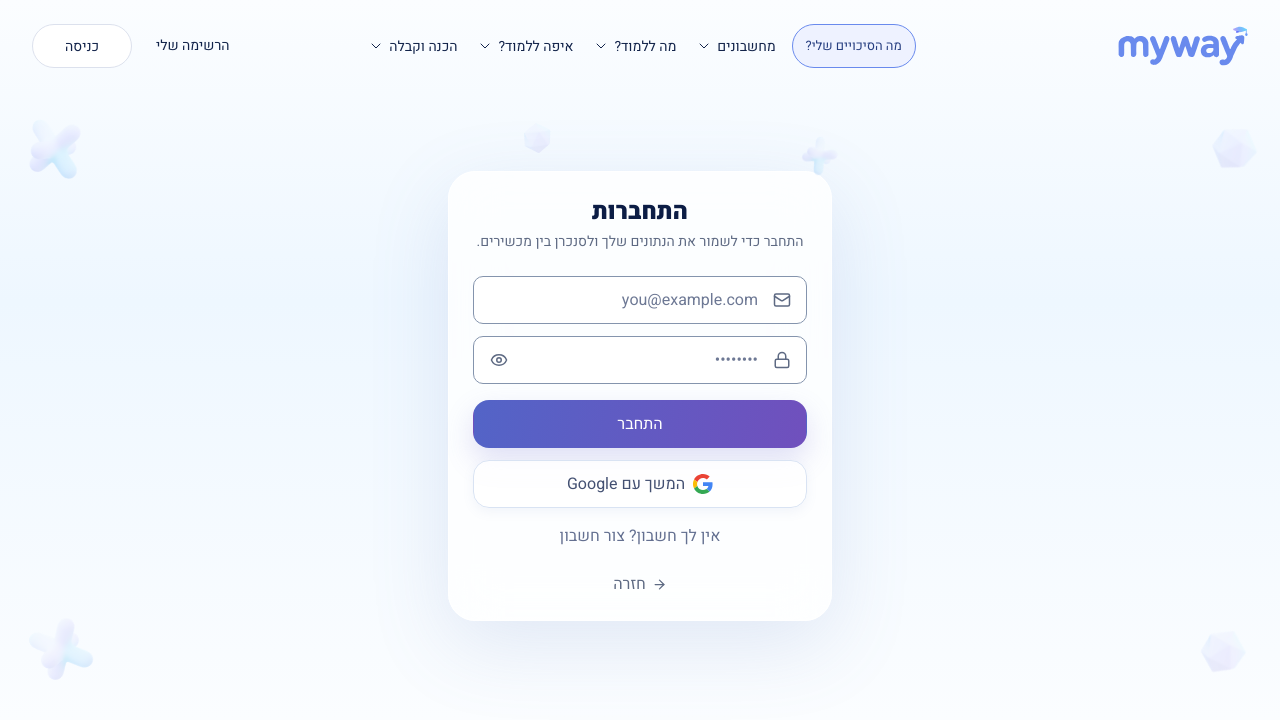
Test case: AuthScreen › passes names to signup and shows the confirmation handoff without logging in
Step 1. Click the button "אין לך חשבון? צור חשבון" → (640, 536), box [473,524,807,548]
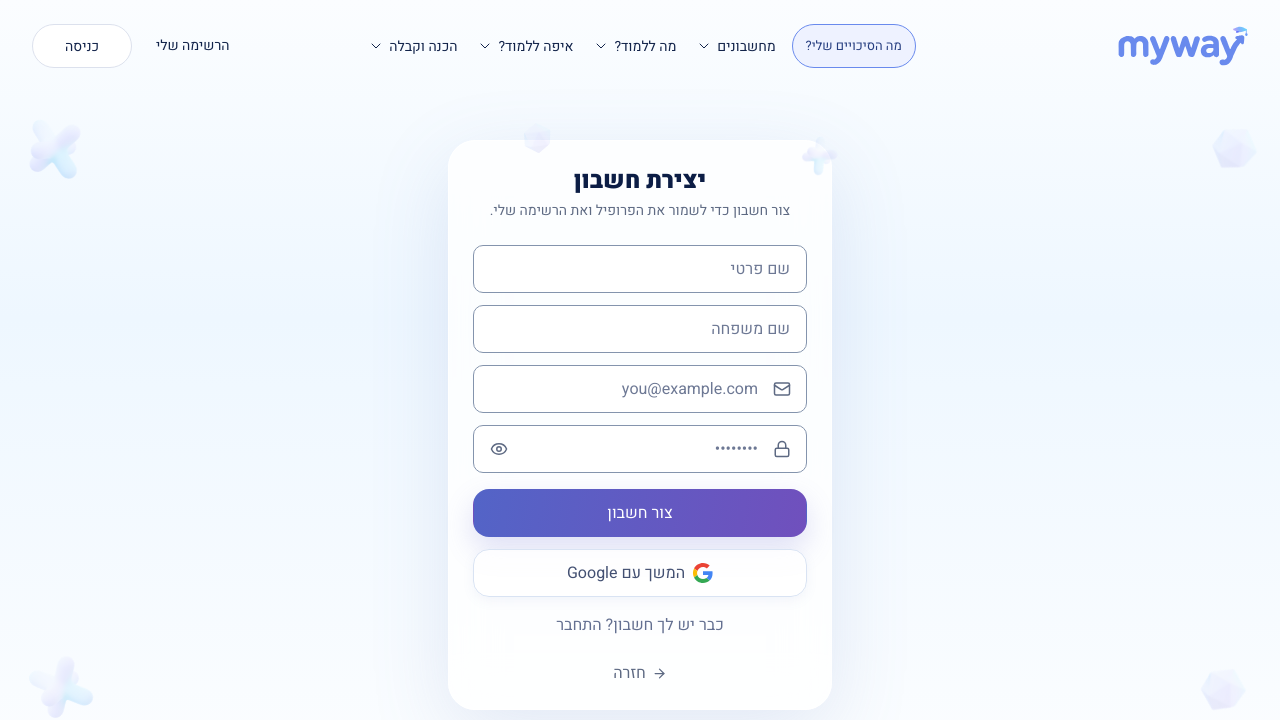
Step 2. Type "מלי" into the field with placeholder "שם פרטי" → (640, 269), box [473,245,807,293]
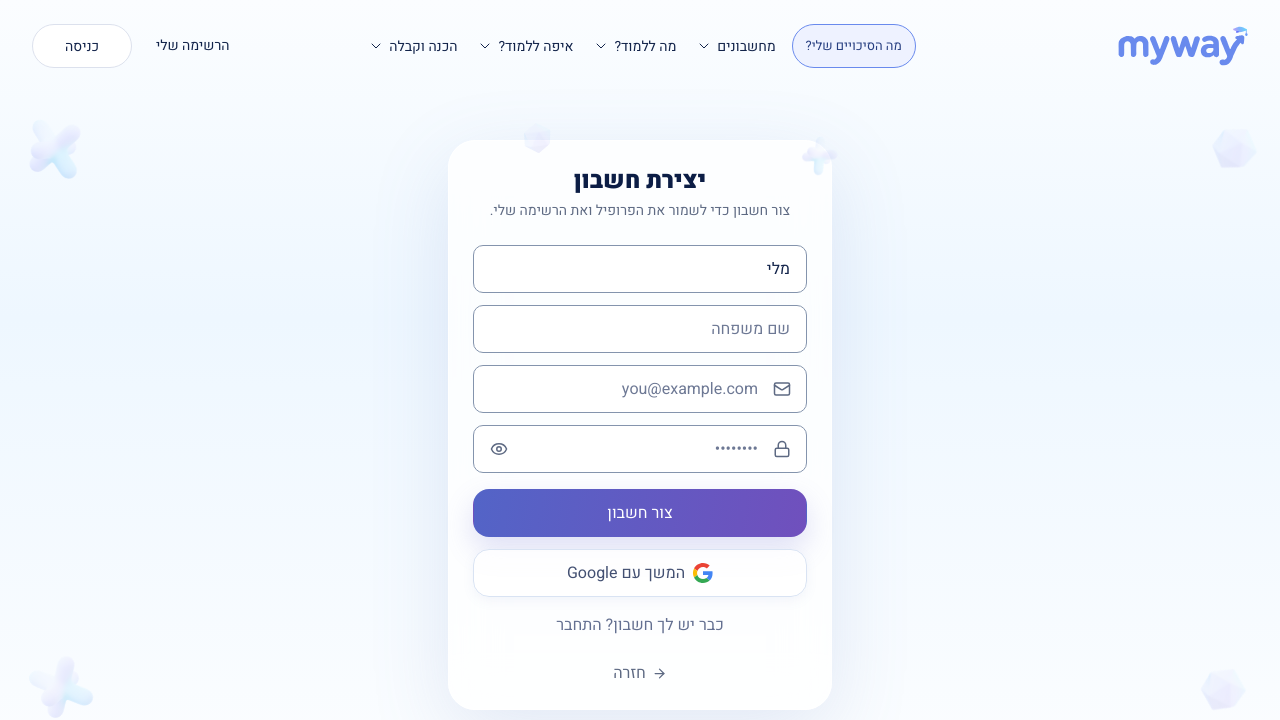
Step 3. Type "כהן" into the field with placeholder "שם משפחה" → (640, 329), box [473,305,807,353]
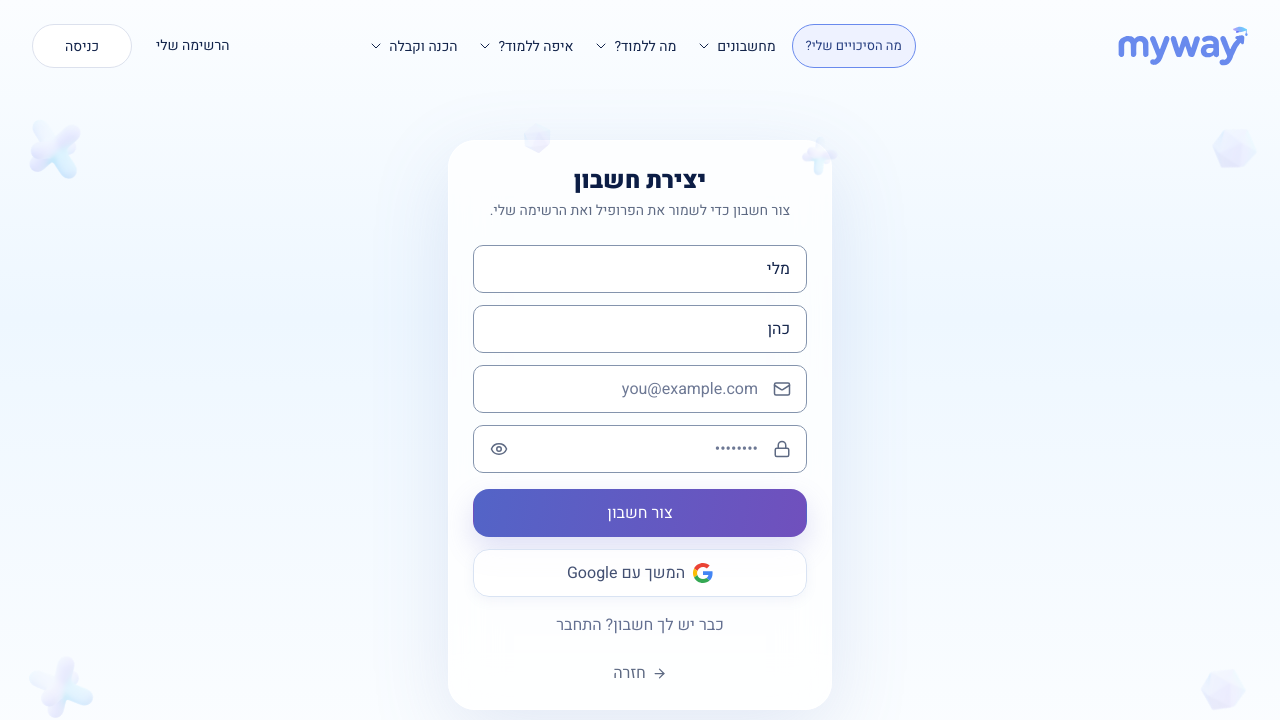
Step 4. Type "user@example.com" into the field with placeholder "you@example.com" → (640, 389), box [473,365,807,413]
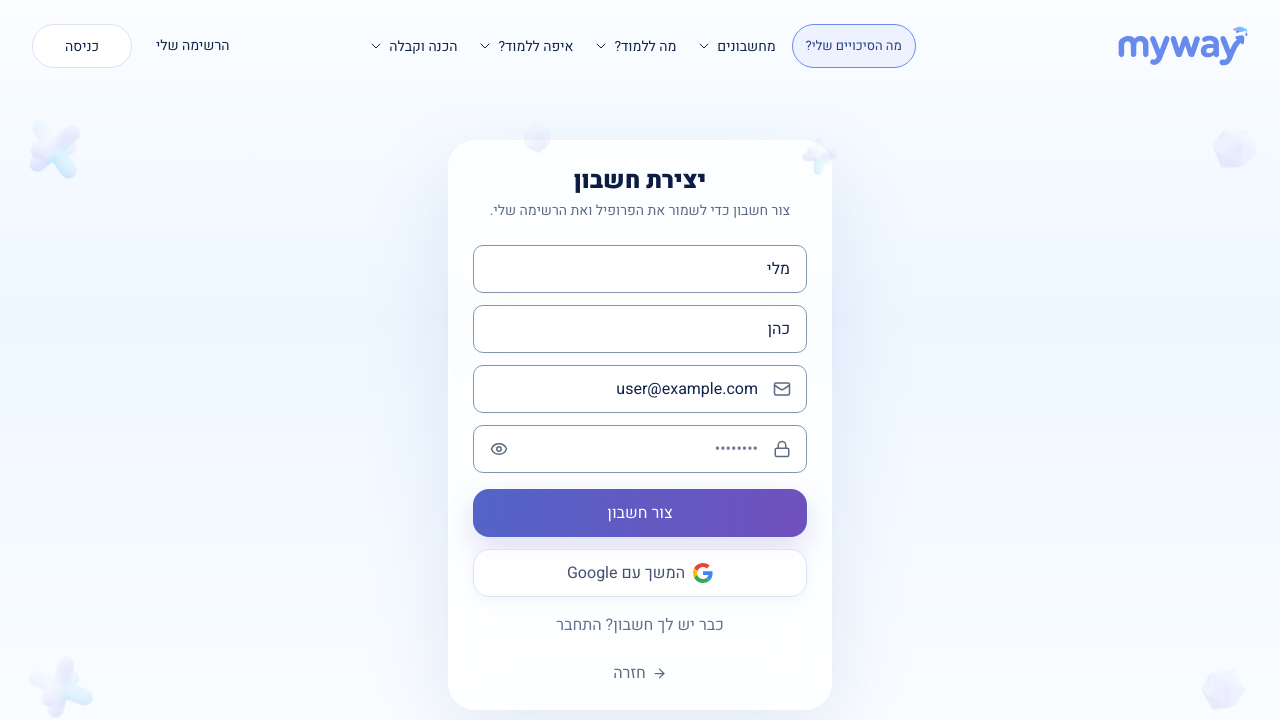
Step 5. Type "secret123" into the password field with placeholder "••••••••" → (640, 449), box [473,425,807,473]
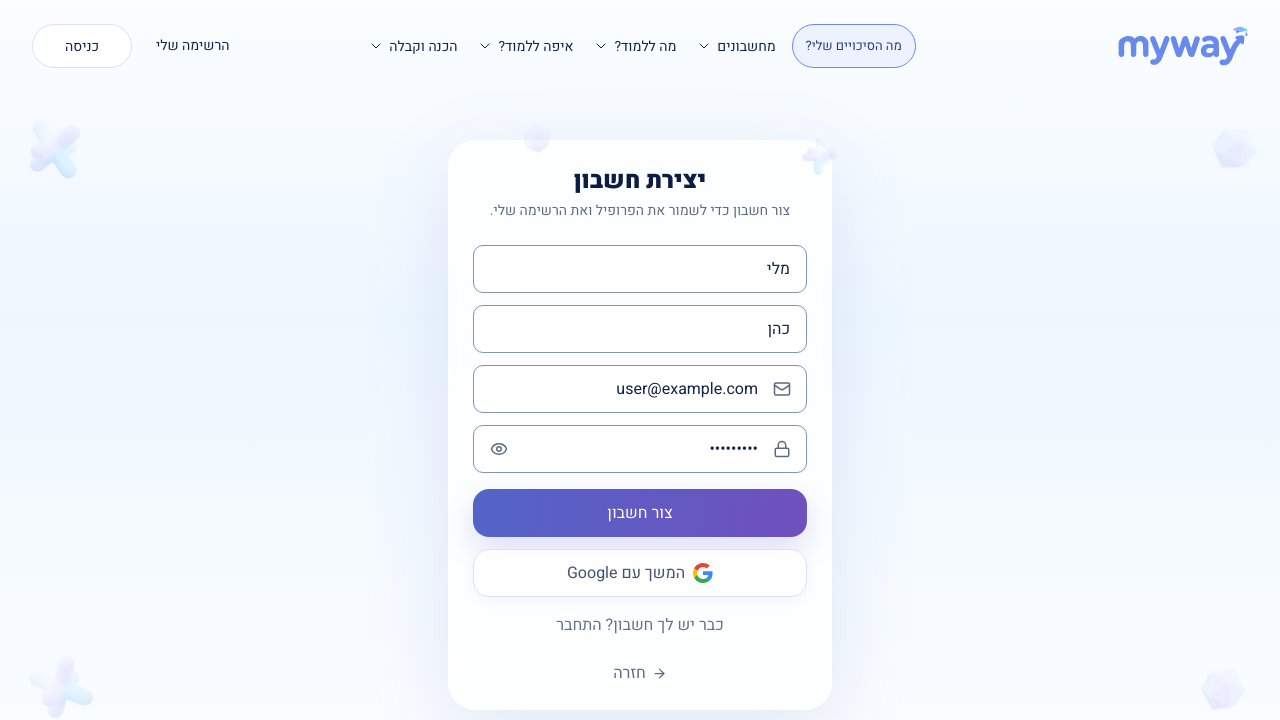
Step 6. Click the button "צור חשבון" → (640, 513), box [473,489,807,537]
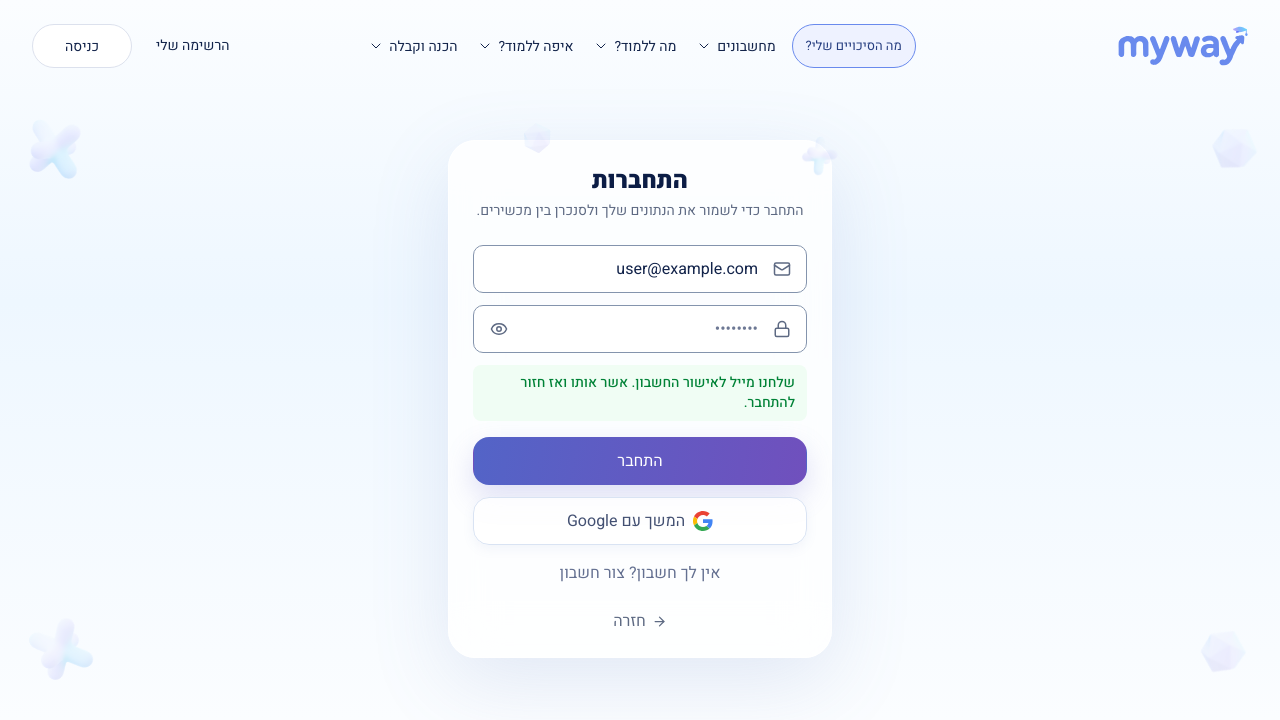
Check: the text "שלחנו מייל לאישור החשבון. אשר אותו ואז חזור להתחבר." is shown, box [473,365,807,421]
